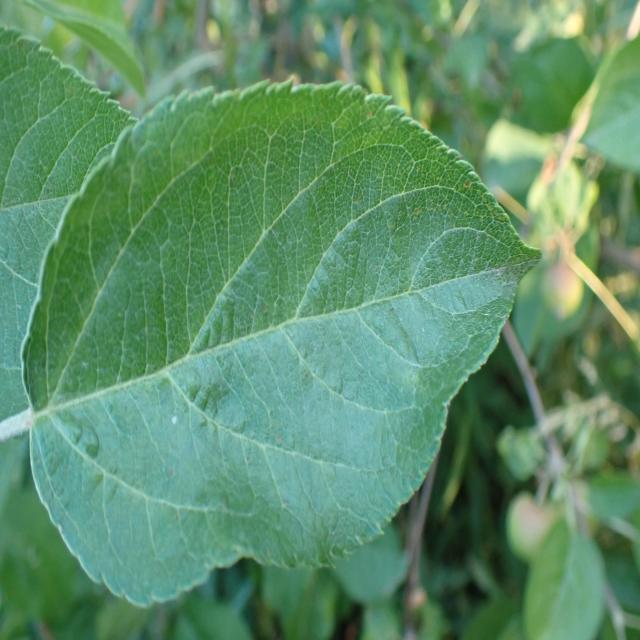healthy: (22, 77, 544, 609), (0, 25, 139, 438)
